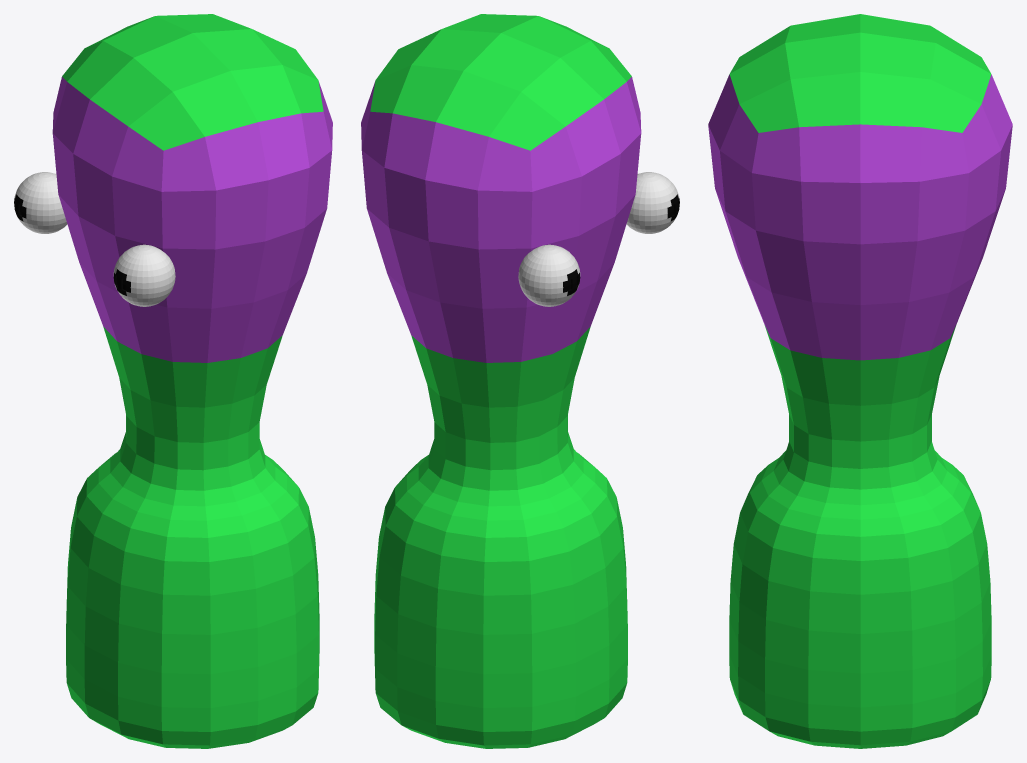
Rendered from player2.fbx.
3 renders of one model, left to right at view 1: azimuth 30°, elevation 25°; view 2: azimuth 150°, elevation 25°; view 3: azimuth 270°, elevation 25°, orthographic.
Parts seen in each view (by area): view 1: Cube.001, Sphere.001; view 2: Cube.001, Sphere.001; view 3: Cube.001.
Part boxes in pixels (x1,y1,x2,y2): Cube.001: [52, 14, 332, 748]; Sphere.001: [14, 172, 175, 306]; Cube.001: [361, 14, 641, 748]; Sphere.001: [518, 172, 679, 306]; Cube.001: [708, 14, 1012, 748].
Size of the model in its own units: 908 by 2402 by 976.
